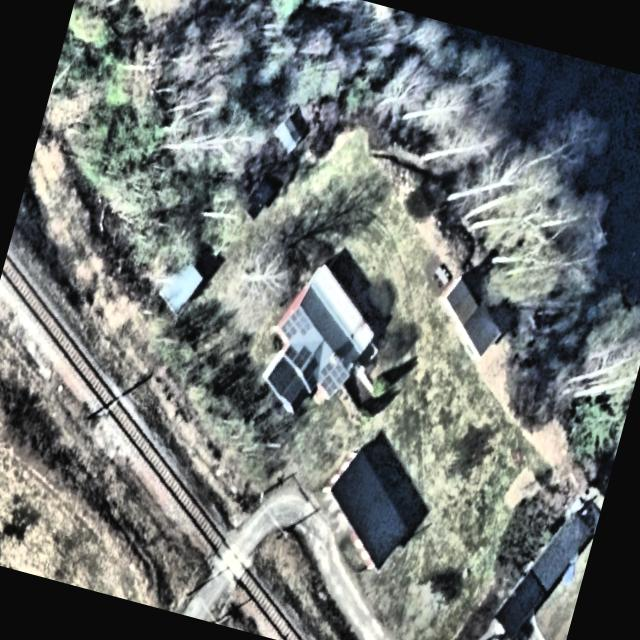roof_pv: (313, 357, 352, 403), (279, 304, 317, 348), (300, 351, 324, 396), (278, 340, 313, 370)
